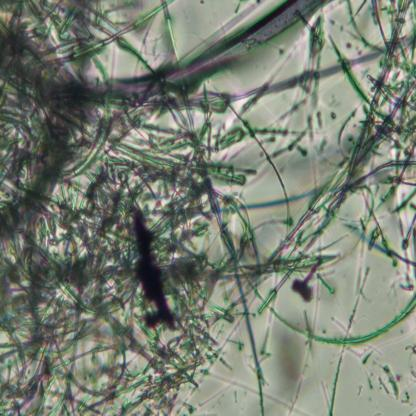Background material: (0, 108, 262, 416), (326, 0, 416, 256), (258, 168, 346, 298), (52, 0, 175, 65), (0, 0, 94, 79), (251, 83, 332, 160), (329, 266, 370, 416), (268, 322, 314, 390), (349, 337, 390, 387), (374, 357, 414, 408), (291, 274, 315, 303)
Glass filter fibre: (267, 281, 416, 338)
Microfibre: (1, 0, 328, 96)
